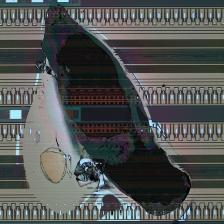BLOCK ETCH: (18, 1, 200, 224)
